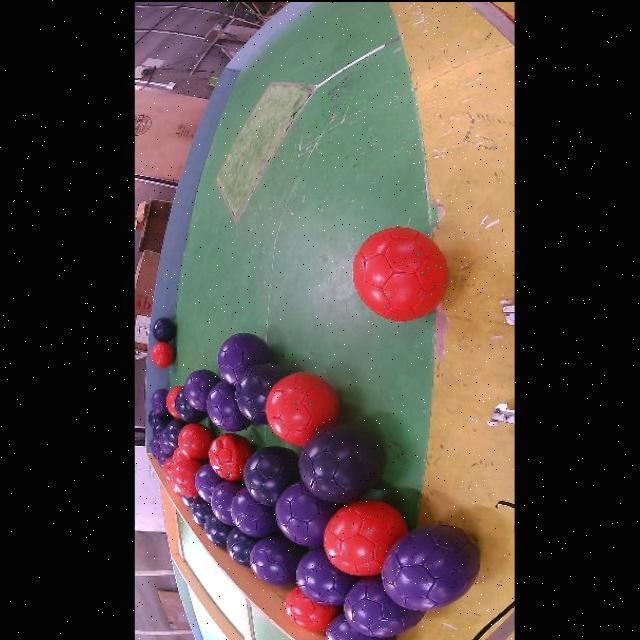B: (298, 422, 382, 502), (242, 445, 300, 506), (234, 362, 285, 424), (225, 525, 259, 566), (173, 387, 206, 421), (204, 512, 233, 548), (164, 417, 187, 448), (191, 495, 212, 527), (152, 316, 175, 341), (151, 418, 168, 441), (147, 408, 166, 425), (180, 494, 193, 507)
P: (382, 523, 480, 610), (342, 574, 424, 636), (275, 479, 339, 545), (295, 545, 358, 605), (217, 331, 270, 384), (249, 535, 303, 585), (230, 486, 277, 536), (205, 380, 251, 430), (324, 613, 395, 640), (183, 368, 220, 411), (210, 479, 243, 525), (193, 462, 224, 502), (150, 387, 168, 415), (158, 428, 173, 455), (155, 448, 168, 466), (148, 437, 160, 454), (151, 388, 160, 399), (162, 388, 167, 403)
R: (353, 226, 447, 319), (323, 499, 407, 574), (265, 371, 338, 445), (284, 586, 340, 630), (208, 432, 253, 479), (177, 422, 213, 458), (171, 457, 201, 496), (150, 341, 173, 367), (166, 384, 182, 417)
